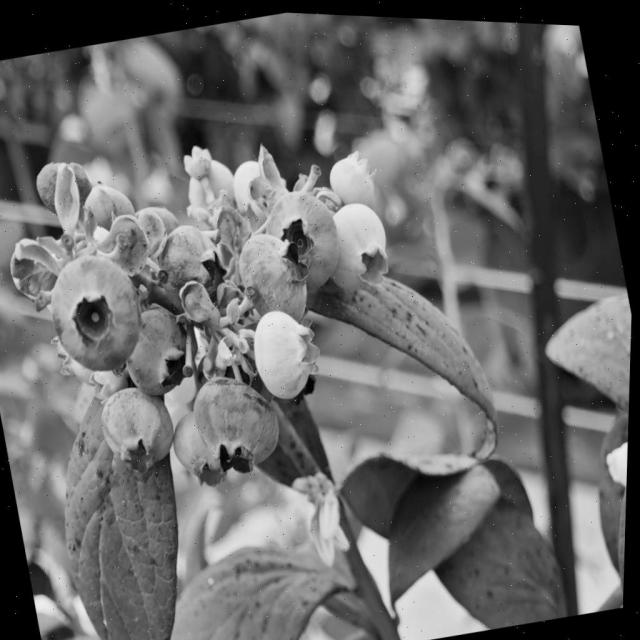RipeBlueBerry: (40, 245, 156, 383), (184, 362, 292, 479), (116, 299, 200, 403)
Semi-RipeBlueBerry: (257, 178, 352, 298), (93, 376, 186, 480), (148, 214, 235, 315), (232, 221, 318, 322)
UnripeBlueBerry: (245, 296, 331, 404), (316, 190, 401, 298)
